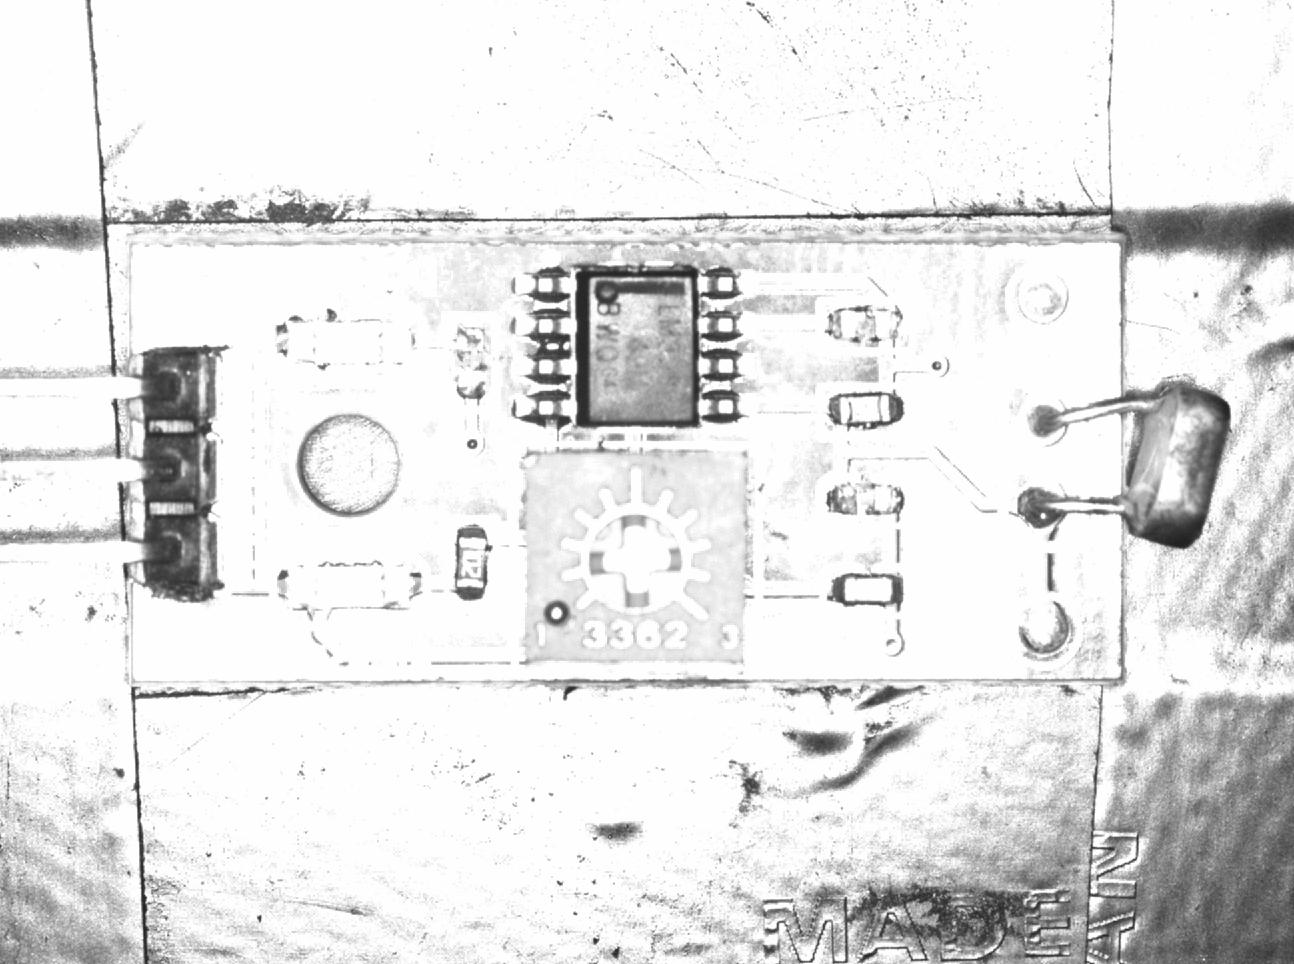miss: (444, 313, 495, 409), (820, 474, 908, 524), (818, 301, 911, 346)
ok: (818, 563, 916, 616), (818, 384, 914, 436), (449, 515, 498, 611)
